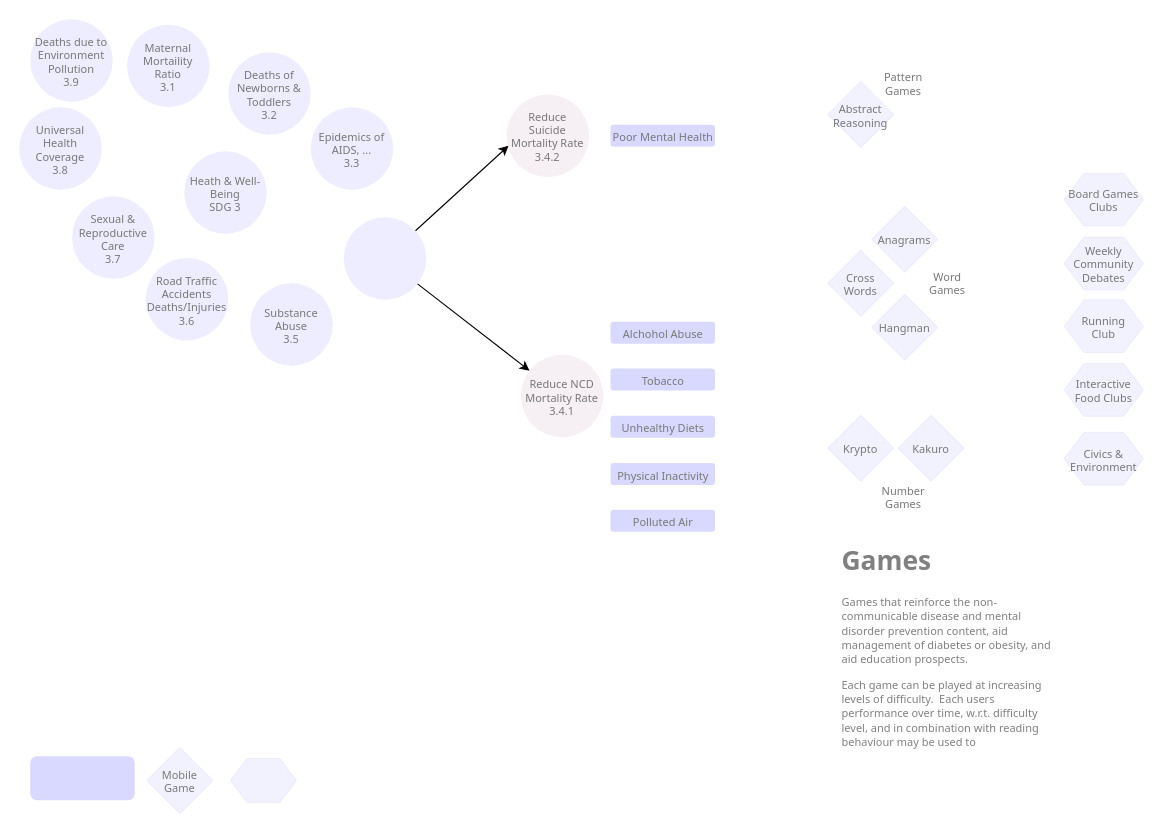
The diagram is 1163 pixels wide and 833 high, and some of its shapes have lost their labels. Here are the shapes that lost their labels. From the top down, the centre of each, then its label:
At point 384,258: "NCD & Mental Health 3.4".
At point 82,778: "Prevention & Management/Referral Content".
At point 262,779: "Club Activity".
